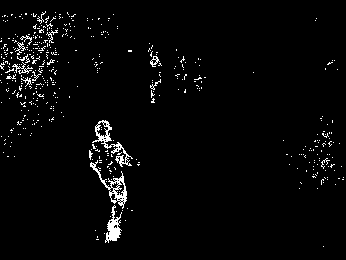person: (88, 119, 140, 244)
